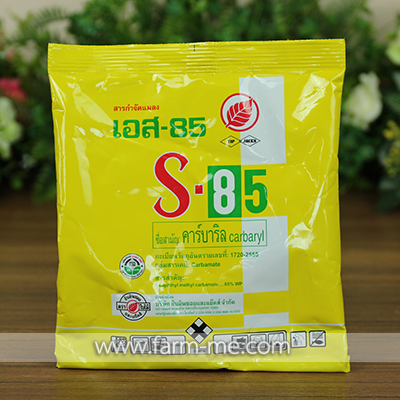Insecticide: (39, 30, 353, 381)
